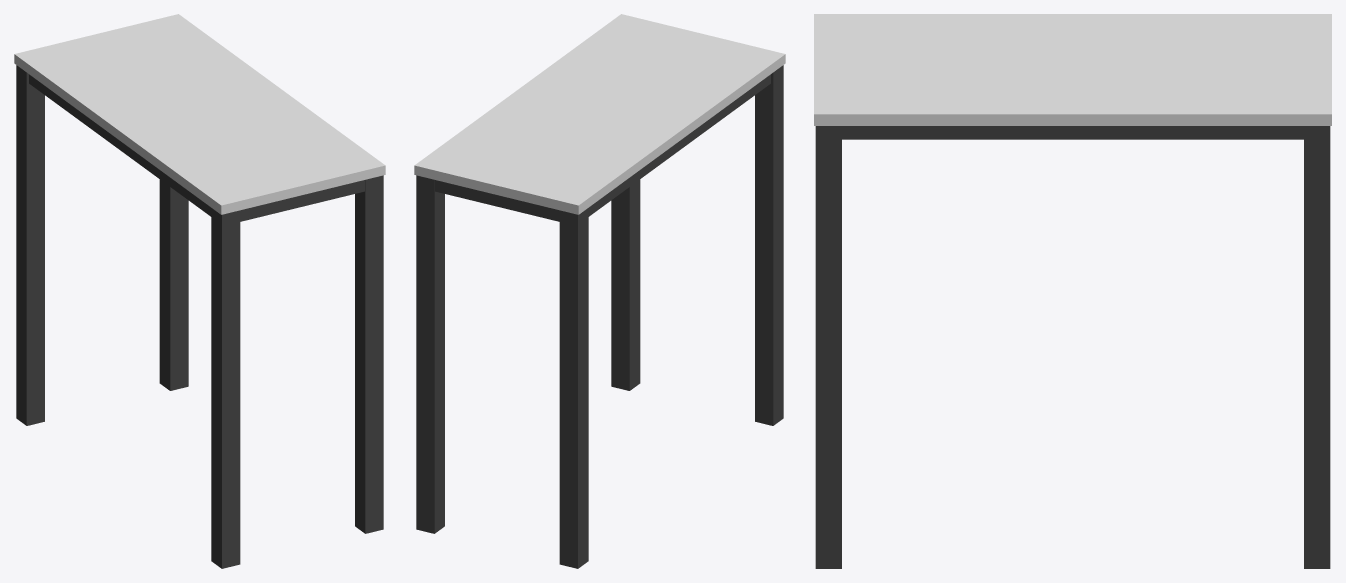
The model's file is Table_05_C2.fbx.
3 views of the same model, side by side, from view 1: azimuth 30°, elevation 25°; view 2: azimuth 150°, elevation 25°; view 3: azimuth 270°, elevation 25° (orthographic). The views are drawn at different scales.
Visible parts, largest first — view 1: Table_05_C2; view 2: Table_05_C2; view 3: Table_05_C2.
Boxes of the visible parts, bbox=[...] form: Table_05_C2: bbox=[14, 14, 385, 568]; Table_05_C2: bbox=[414, 14, 785, 568]; Table_05_C2: bbox=[814, 14, 1331, 568].
Size of the model in its own units: 55 by 117 by 120.
